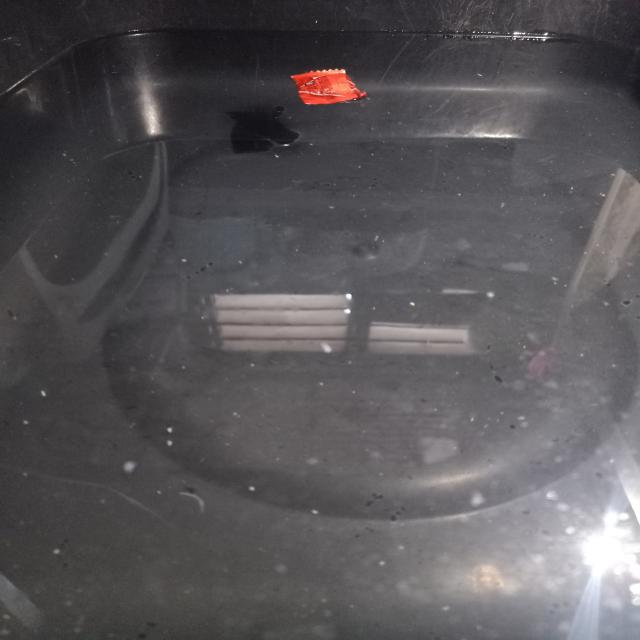Plastic Wrapper: (291, 69, 366, 104)
